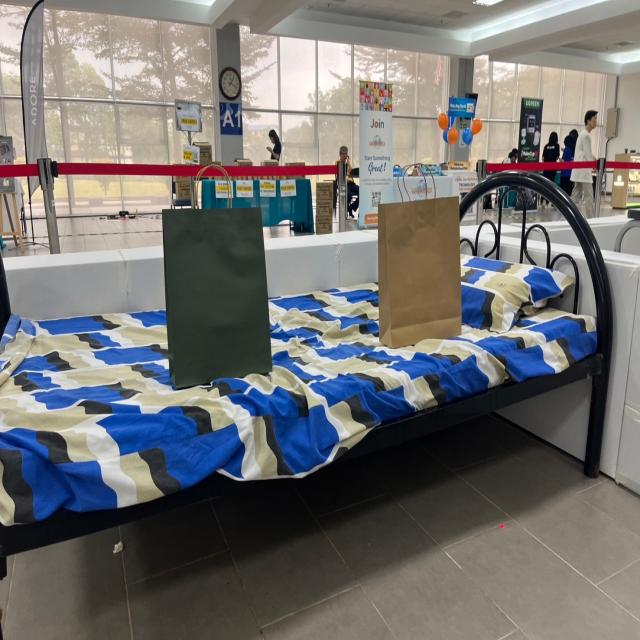bag: (165, 170, 268, 364), (382, 151, 458, 331)
